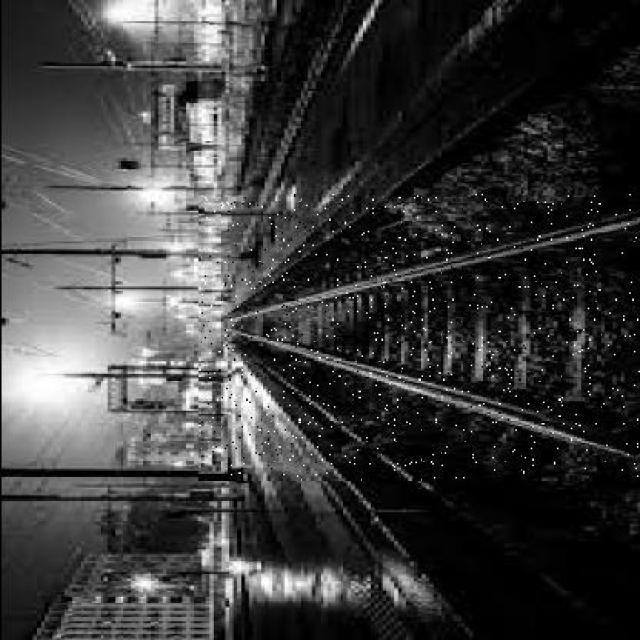rail: (198, 194, 638, 479)
